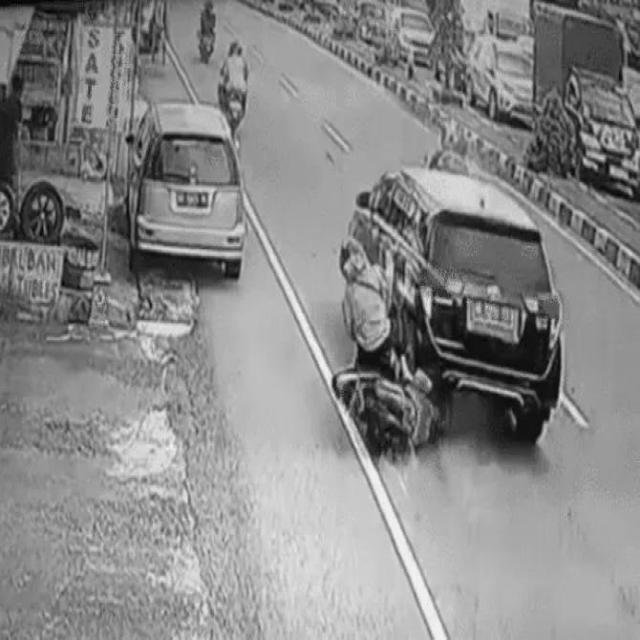accident: (331, 164, 565, 472)
vehicle: (122, 97, 246, 283), (218, 38, 250, 138), (197, 0, 217, 64)
